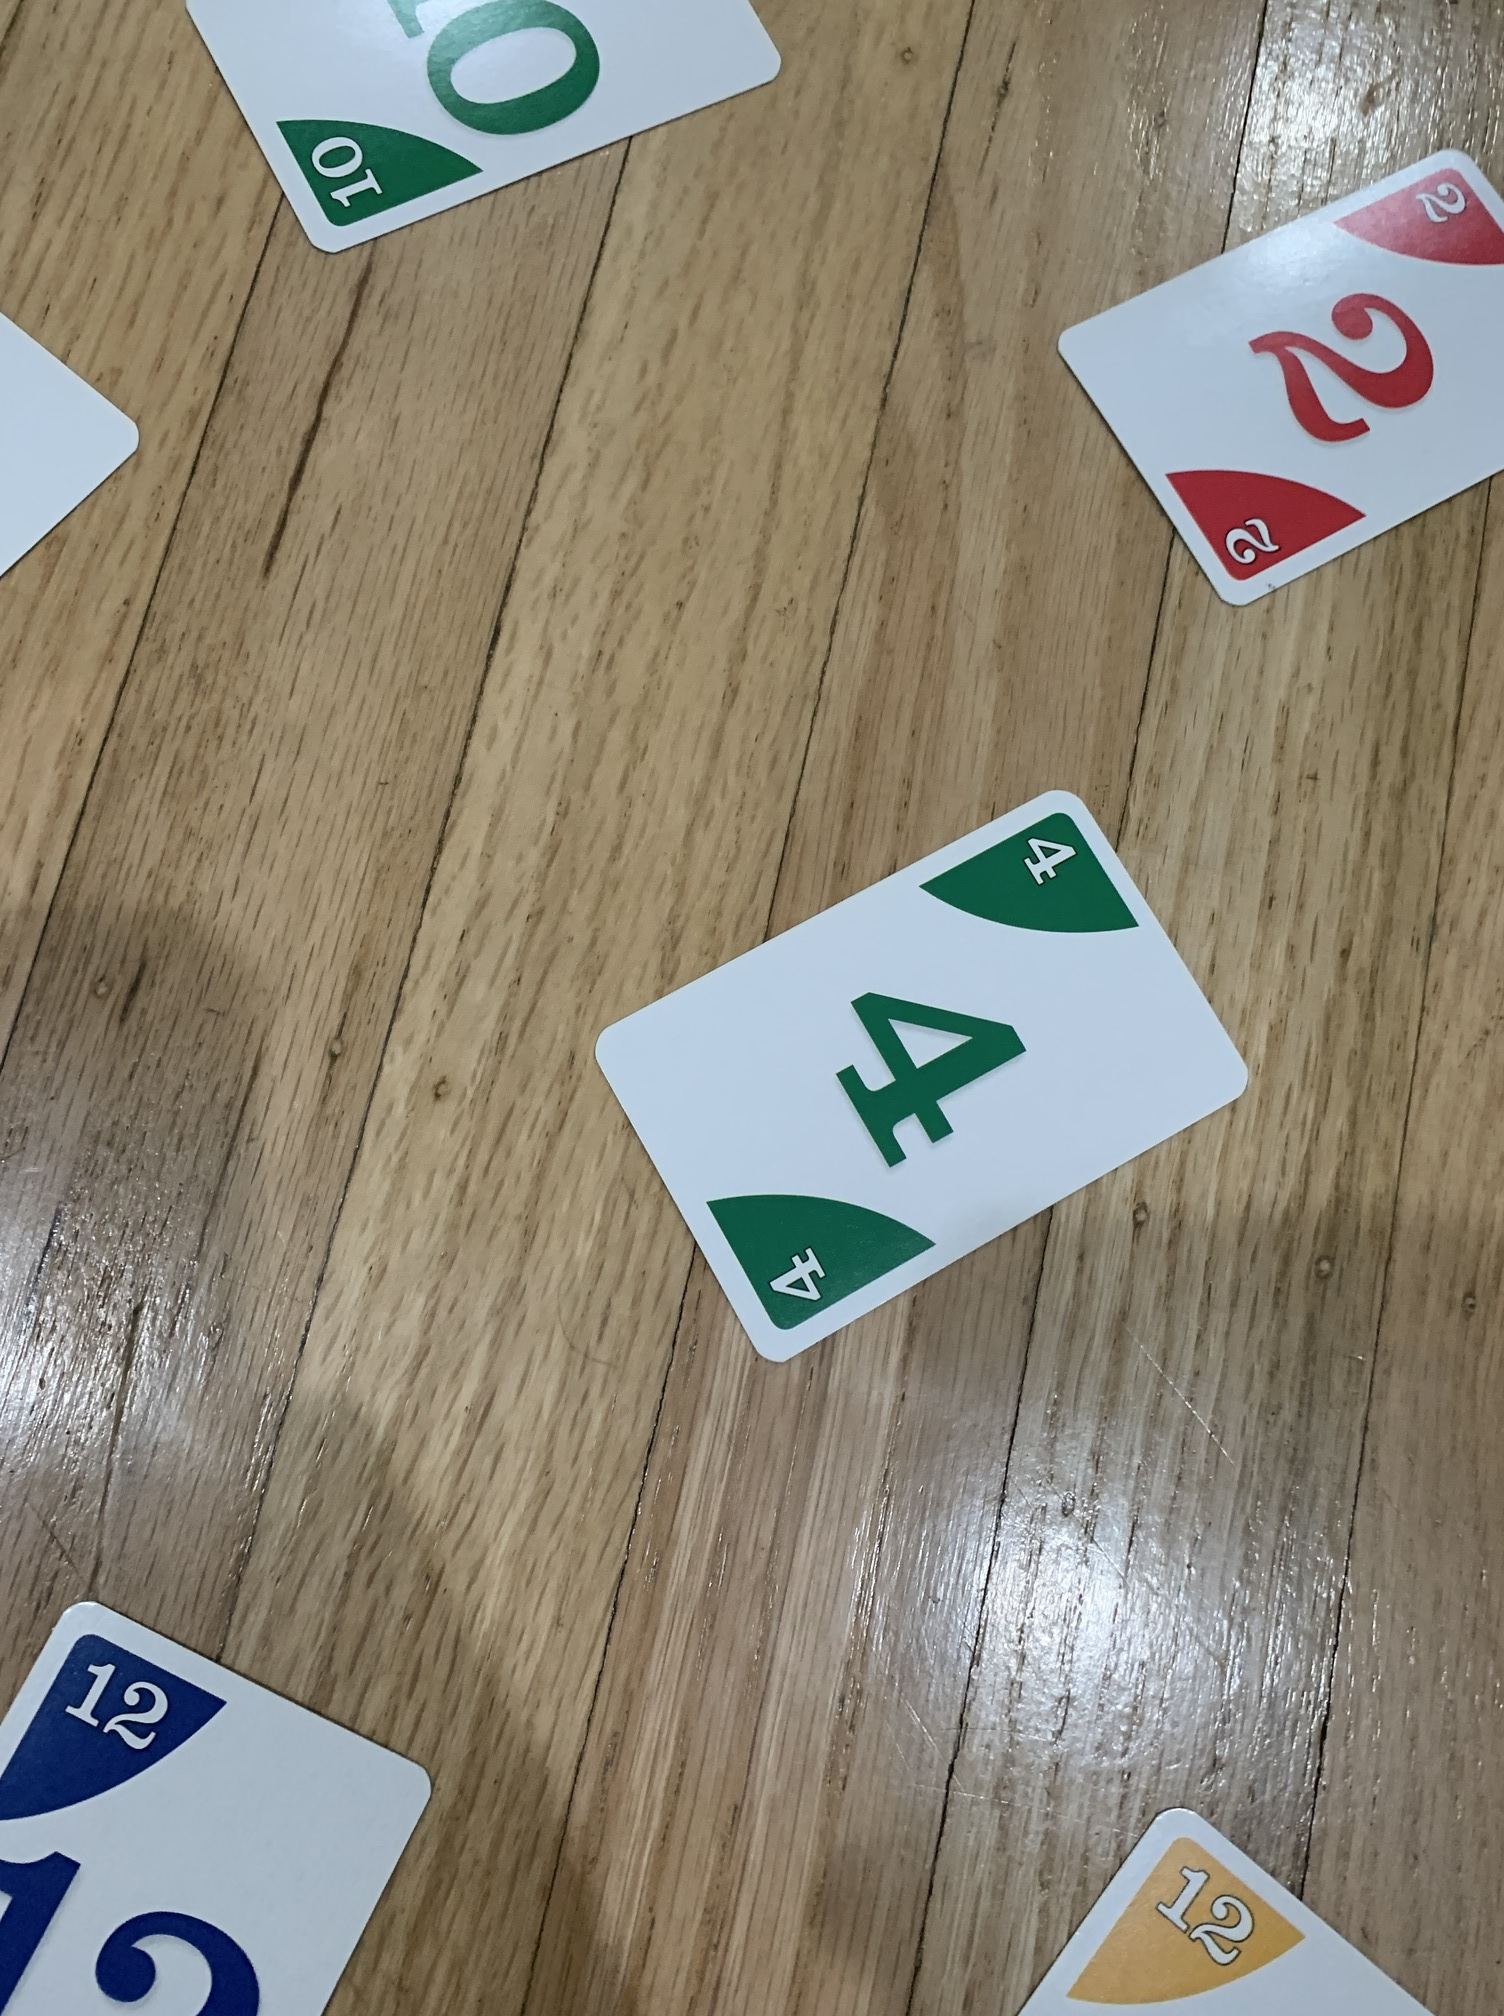four: (577, 776, 1265, 1378)
two: (1043, 126, 1504, 649)
